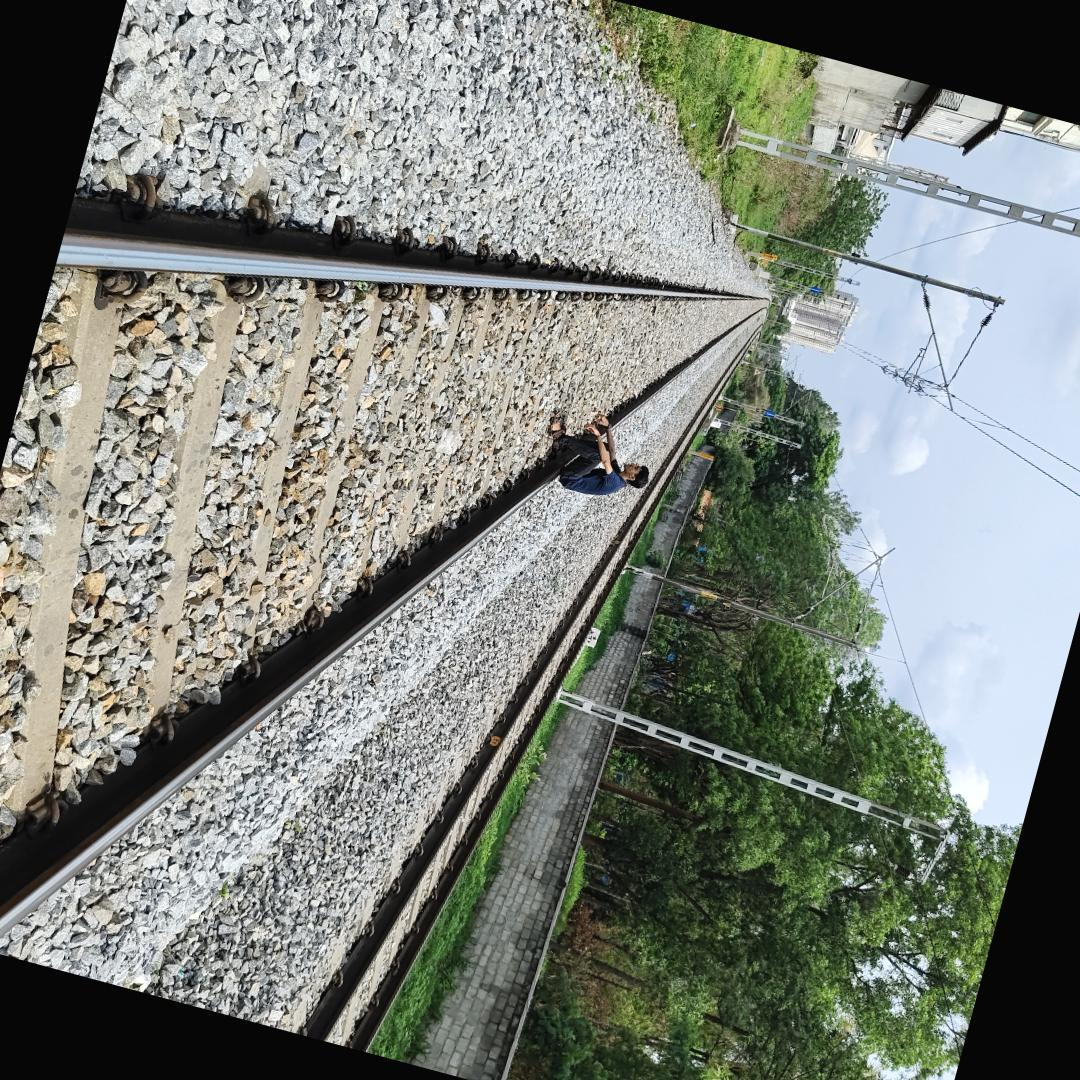sitting: (520, 382, 663, 512)
track: (0, 182, 772, 927)
